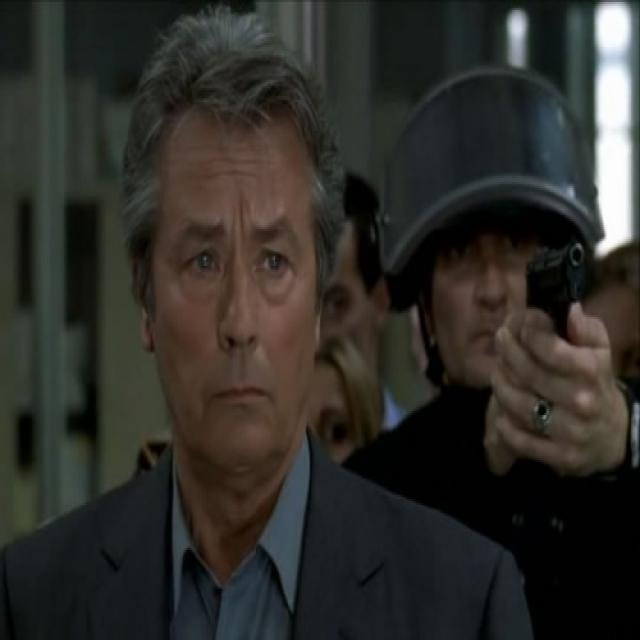weapons: (515, 217, 599, 428)
